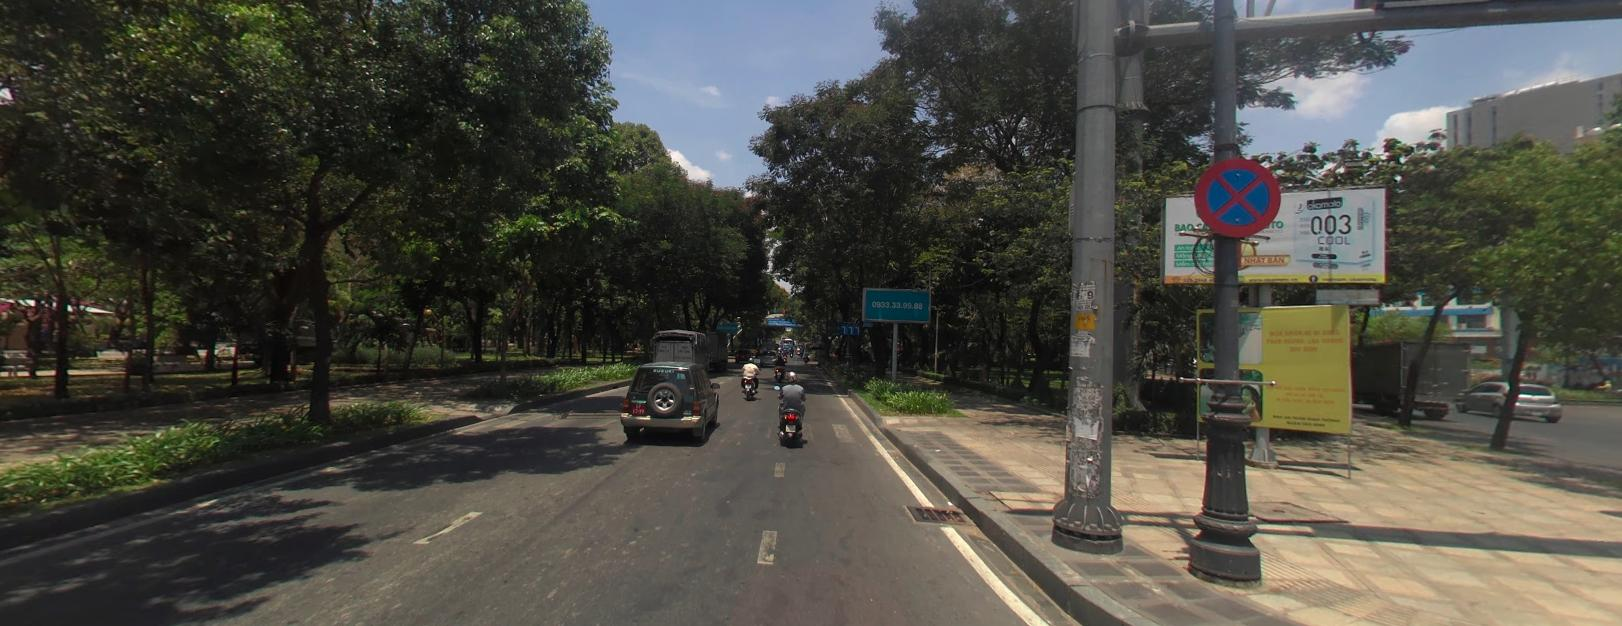Cam dung va do: (1193, 156, 1280, 234)
